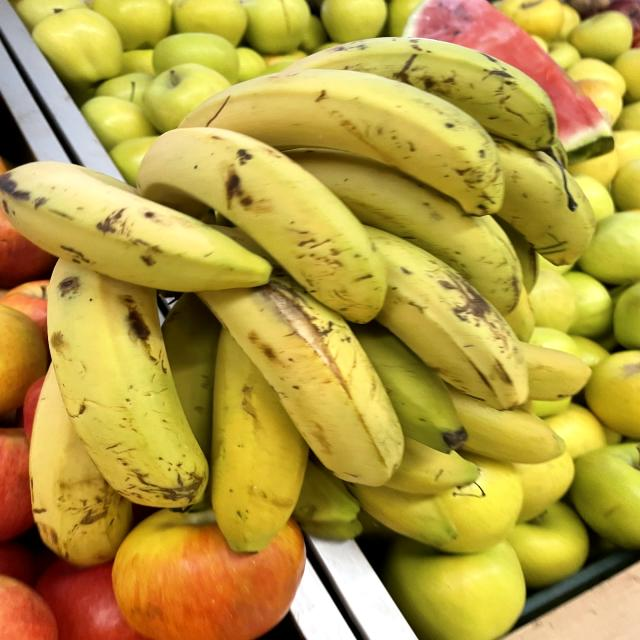banana: (125, 118, 435, 324)
